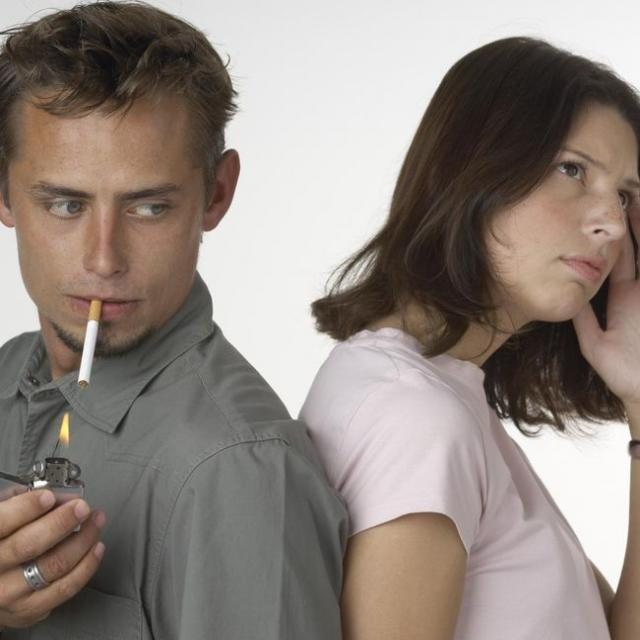smoke: (73, 292, 107, 389)
